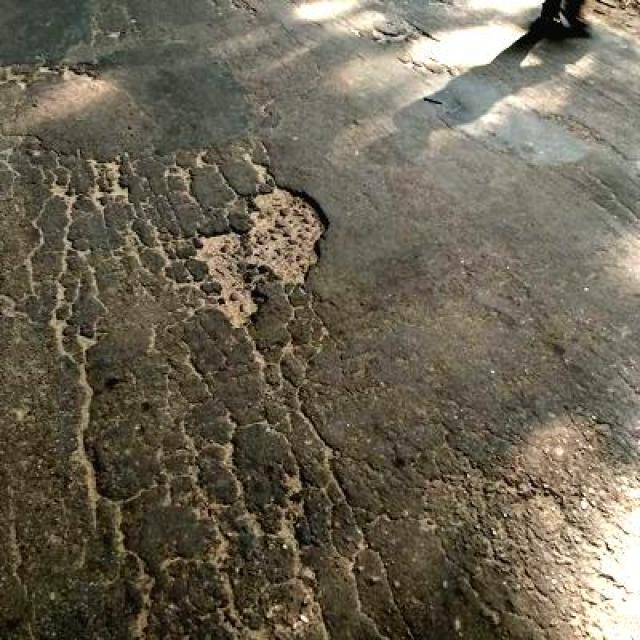pothole: (188, 179, 329, 331)
